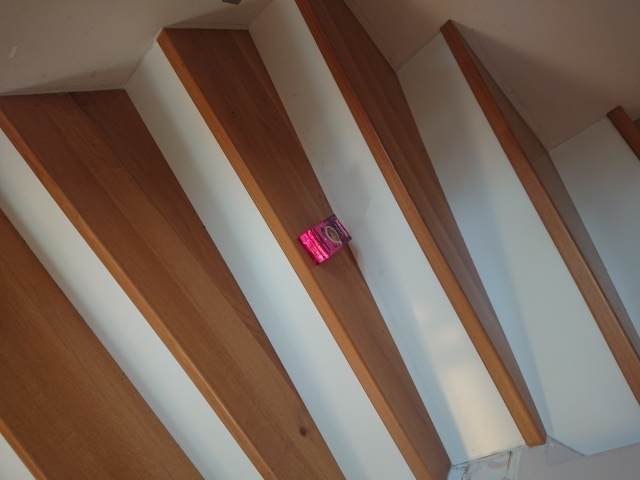Barcaffe Classic Original 225g: (296, 212, 354, 268)
